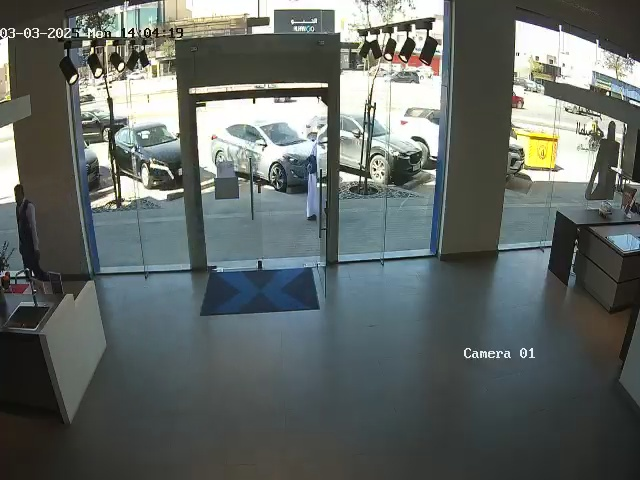employee: (9, 180, 50, 277)
male: (305, 132, 326, 224)
